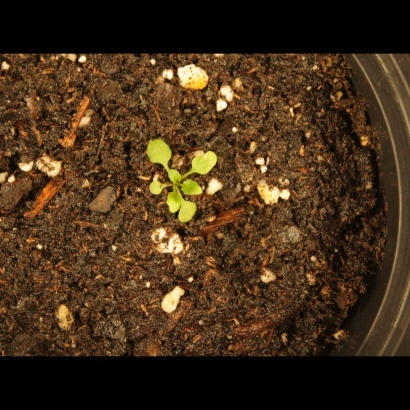leaf: (189, 150, 222, 179), (146, 137, 175, 169), (180, 177, 208, 200), (161, 190, 184, 217), (177, 201, 200, 224), (142, 179, 165, 202), (162, 163, 185, 186)
